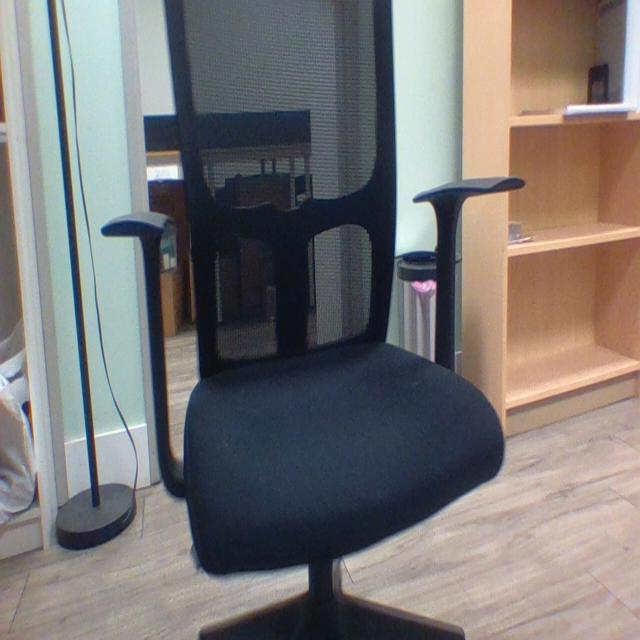black-chair: (76, 0, 522, 639)
